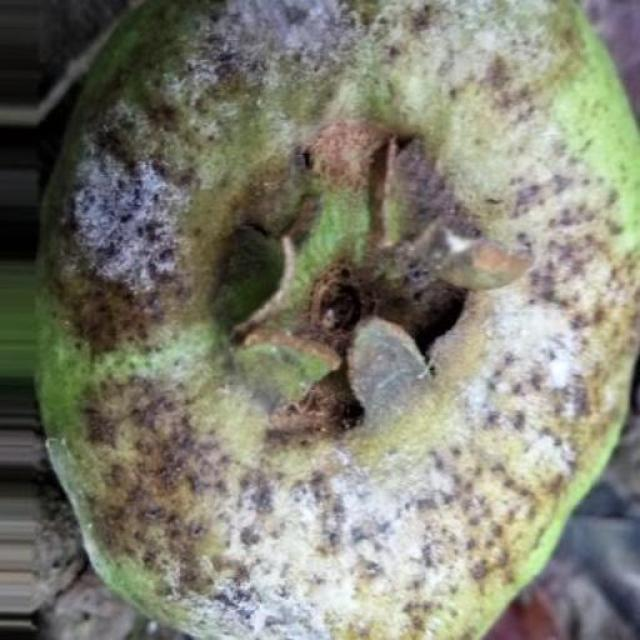Phytopthora: (38, 0, 640, 640)
